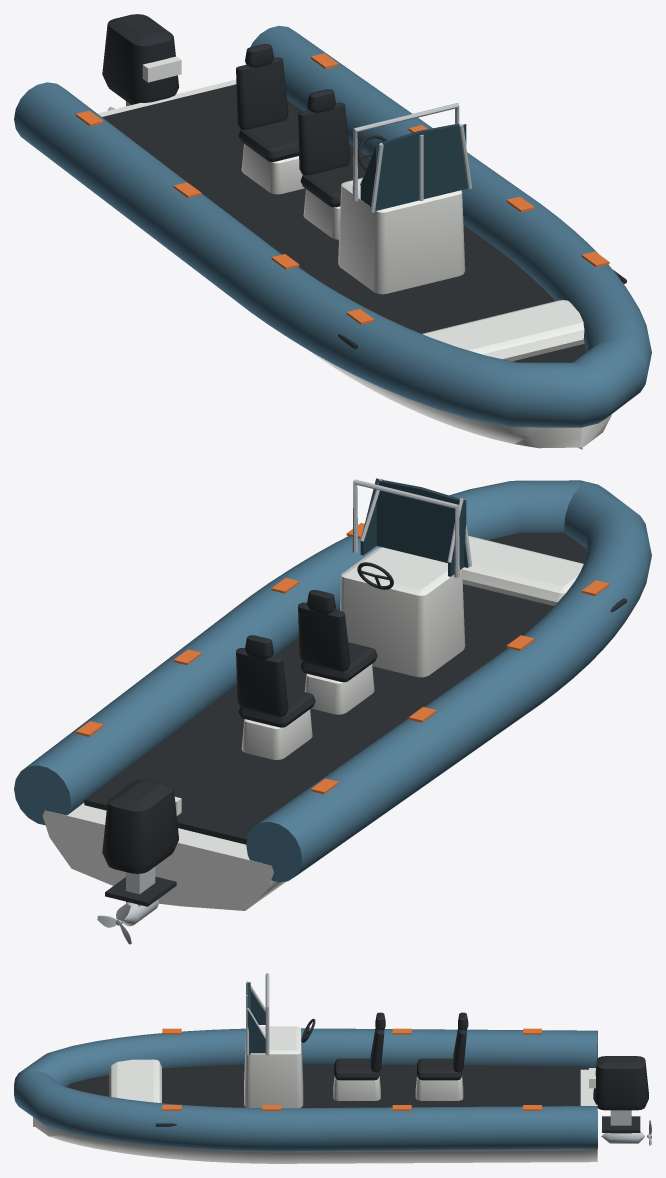
Rendered from rib.glb.
3 views of the same model, one above another, from view 1: azimuth 30°, elevation 25°; view 2: azimuth 150°, elevation 25°; view 3: azimuth 270°, elevation 25° (orthographic). The views are drawn at different scales.
Parts seen in each view (by area): view 1: rigid-inflatable; view 2: rigid-inflatable; view 3: rigid-inflatable.
Boxes of the visible parts, x1=… form: rigid-inflatable: x1=14, y1=14, x2=651, y2=449; rigid-inflatable: x1=14, y1=478, x2=651, y2=926; rigid-inflatable: x1=14, y1=973, x2=648, y2=1163.
Bounding box in the file's own units: 2.68 × 2.03 × 7.34.
